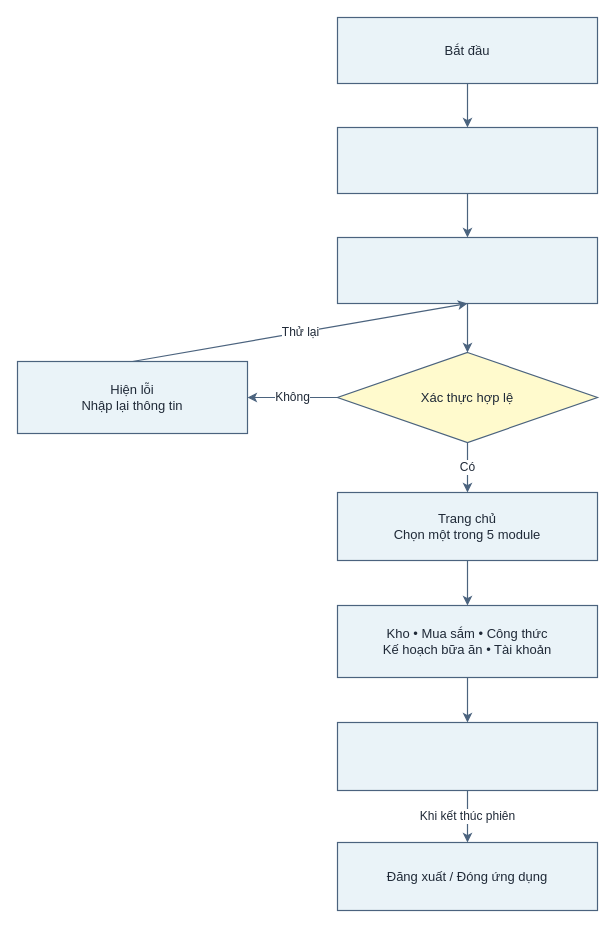
Some shapes in this 616 by 929 pixel diagram are drawn without their labels. Each missing label, with the centre of its shape:
"Lưu và đồng bộ dữ liệu Quay lại trang chủ" belongs at pixel 467 756.
"Mở ứng dụng Android" belongs at pixel 467 160.
"Đăng ký / Đăng nhập" belongs at pixel 467 270.
